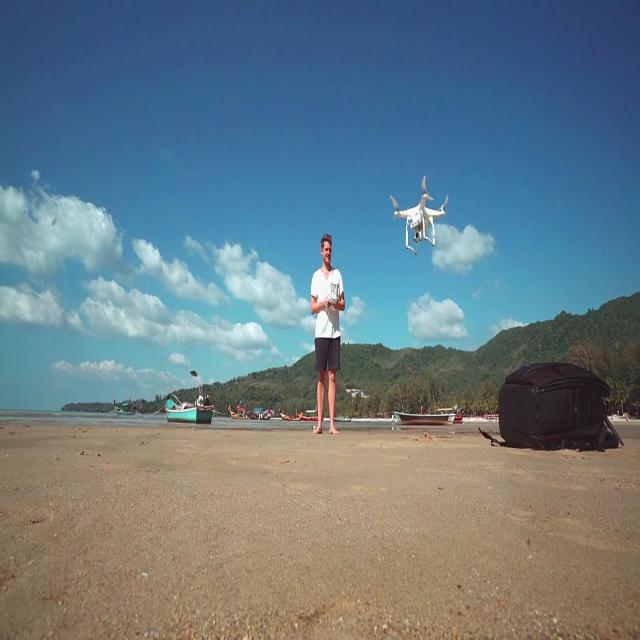drone: (390, 170, 449, 260)
